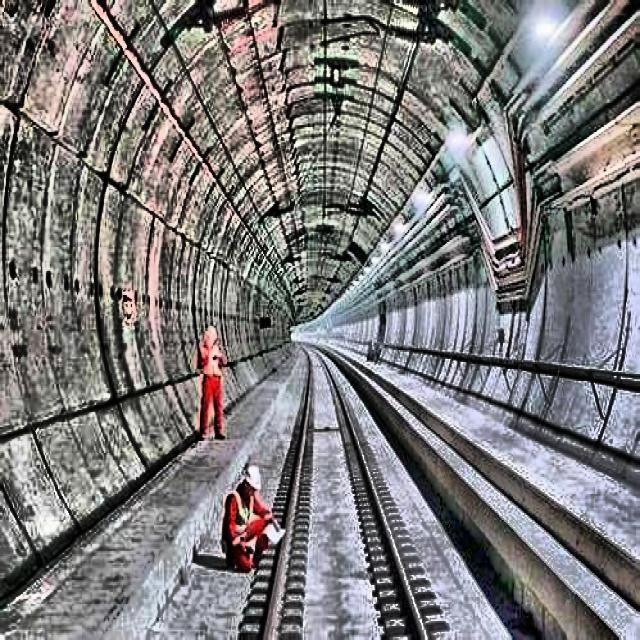helmet: (237, 465, 267, 503)
